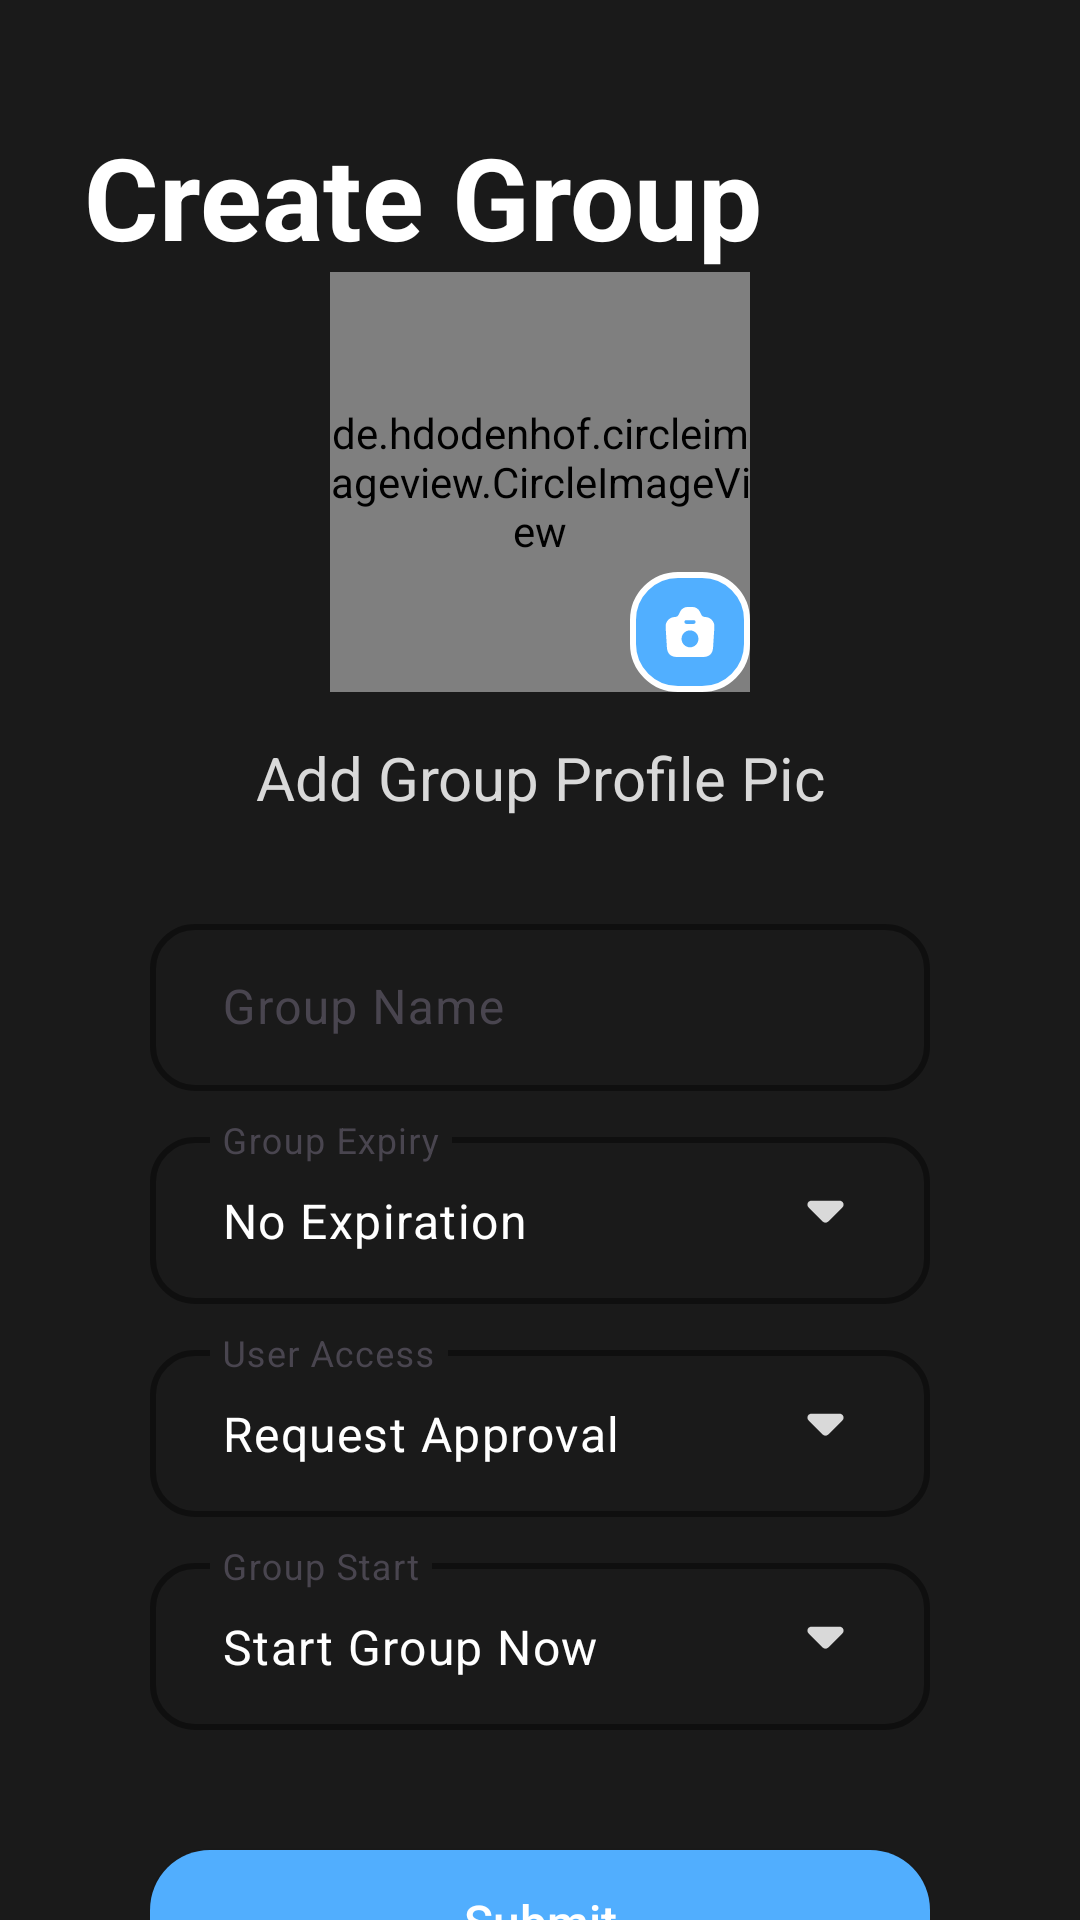

Where to tap for icons on this 1080 × 1920 app screen, as (x=x, y=y):
camera: (x=690, y=632)
drop list: (x=825, y=1211), (x=825, y=1424), (x=825, y=1637)
